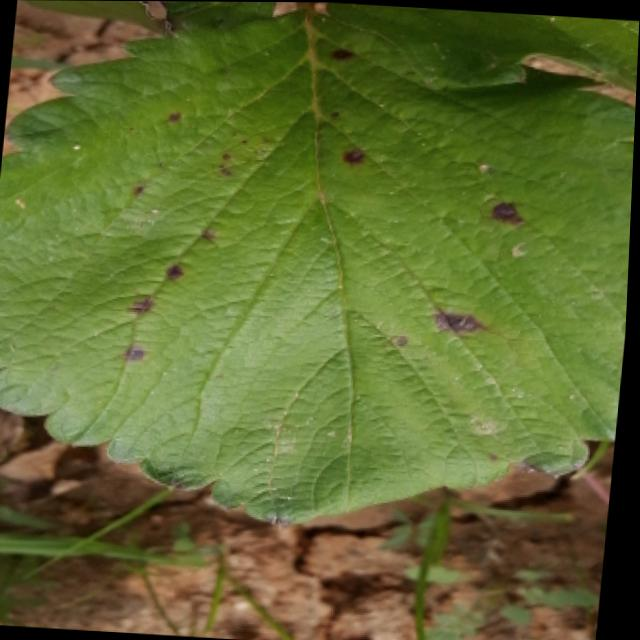Leaf Spot: (0, 1, 636, 530), (18, 0, 237, 38)
